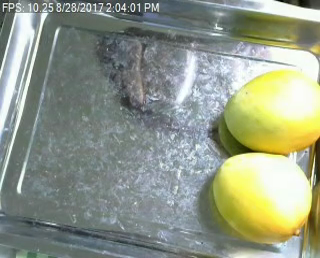Mango: (210, 149, 315, 240), (220, 65, 320, 151)
